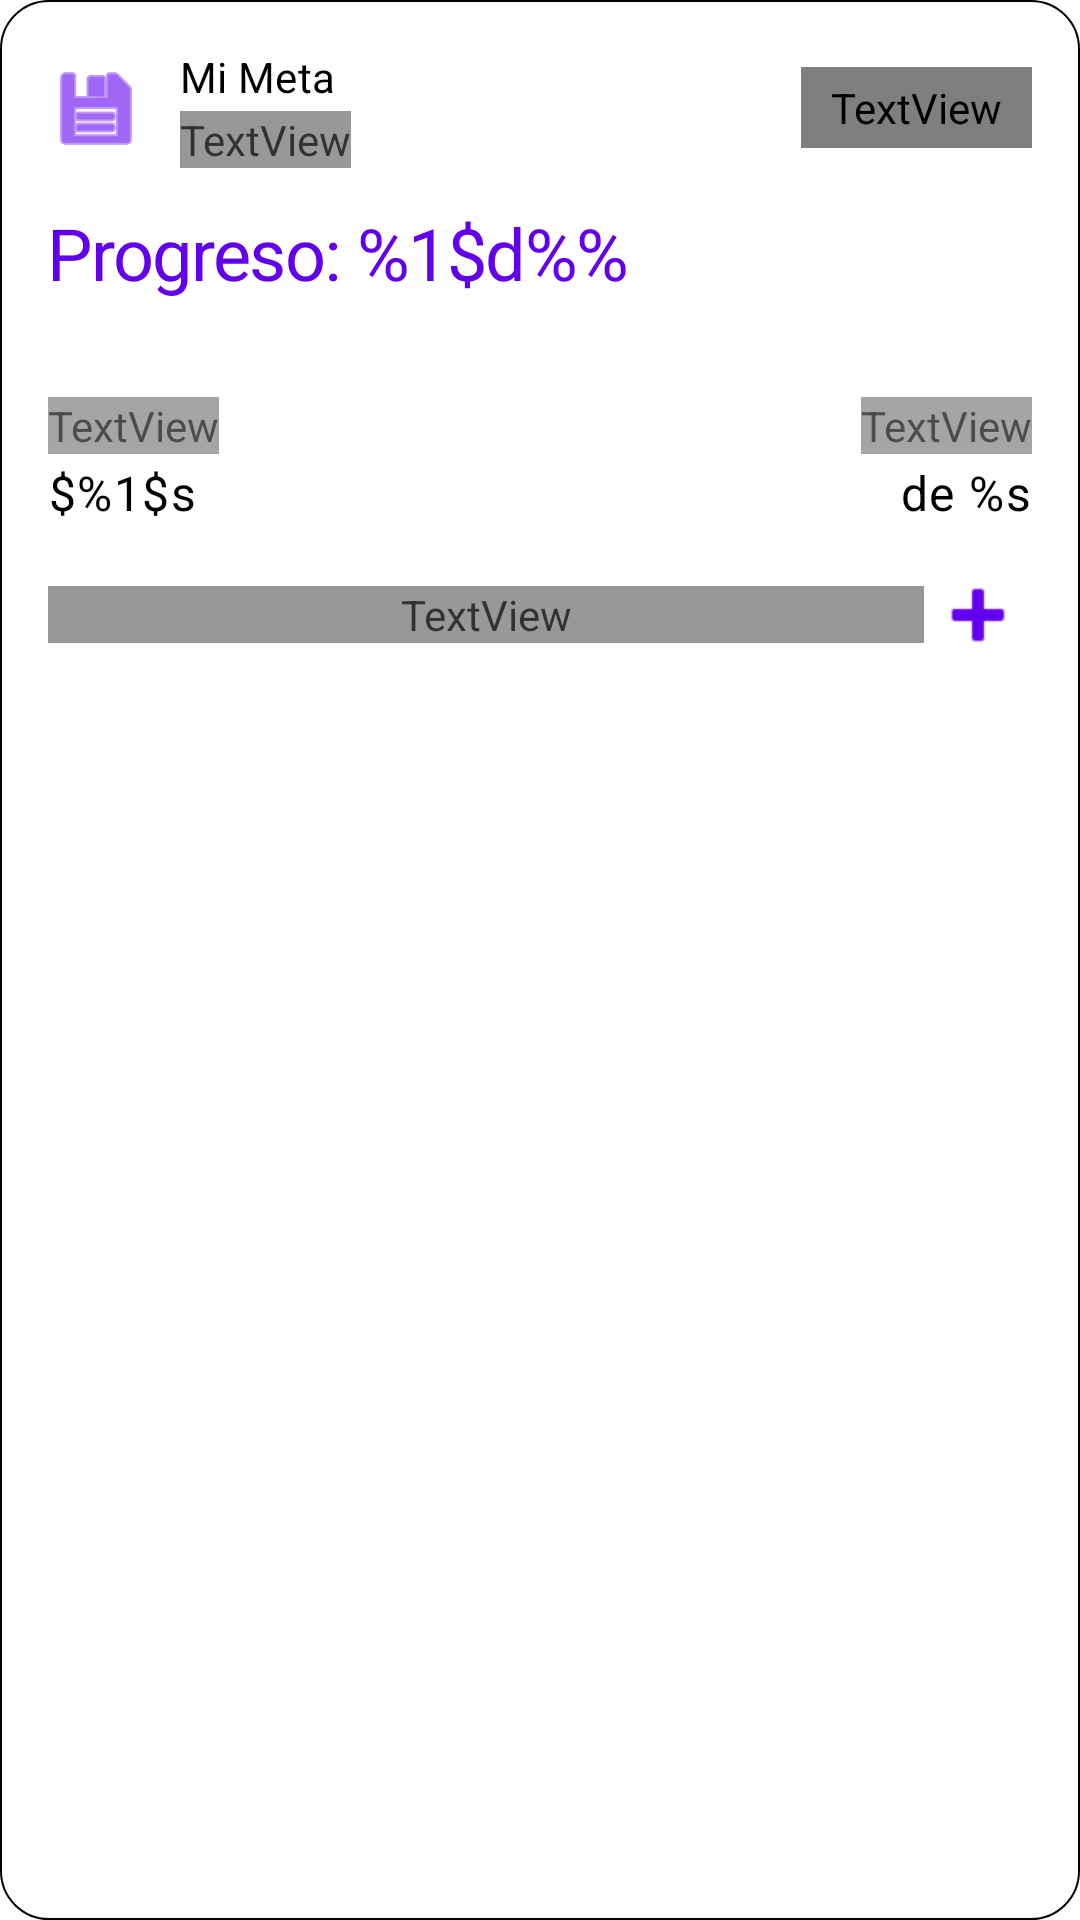

Icon bounding boxes for this 1080 × 1920 phone screenshot, format (x1, y1, x2, y2):
Agregar fondos a la meta: (951, 588, 1005, 642)
